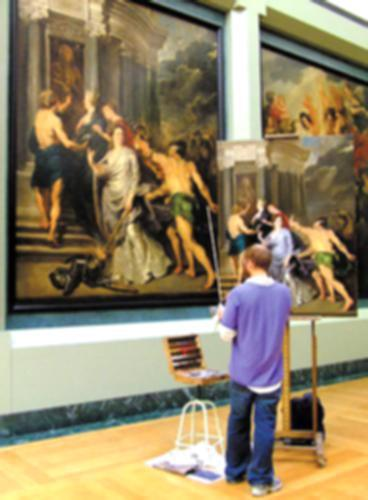Otro Obstaculo: (215, 142, 357, 456)
